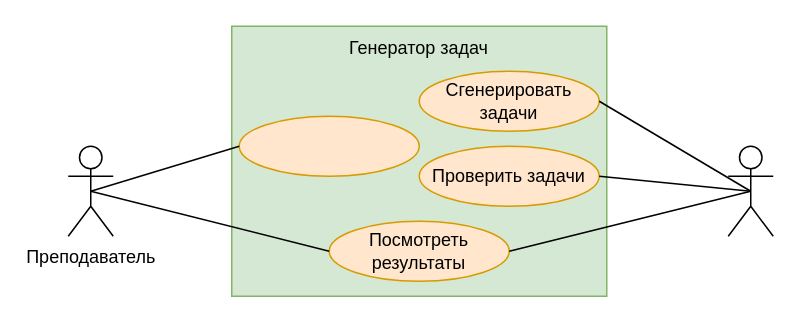
This 810x323 diagram has some shape labels left out. The centre of each missing label's shape, as x and y in pixels:
"Задать систему знаний" belongs at point (328, 145).
"Студент" belongs at point (750, 190).
